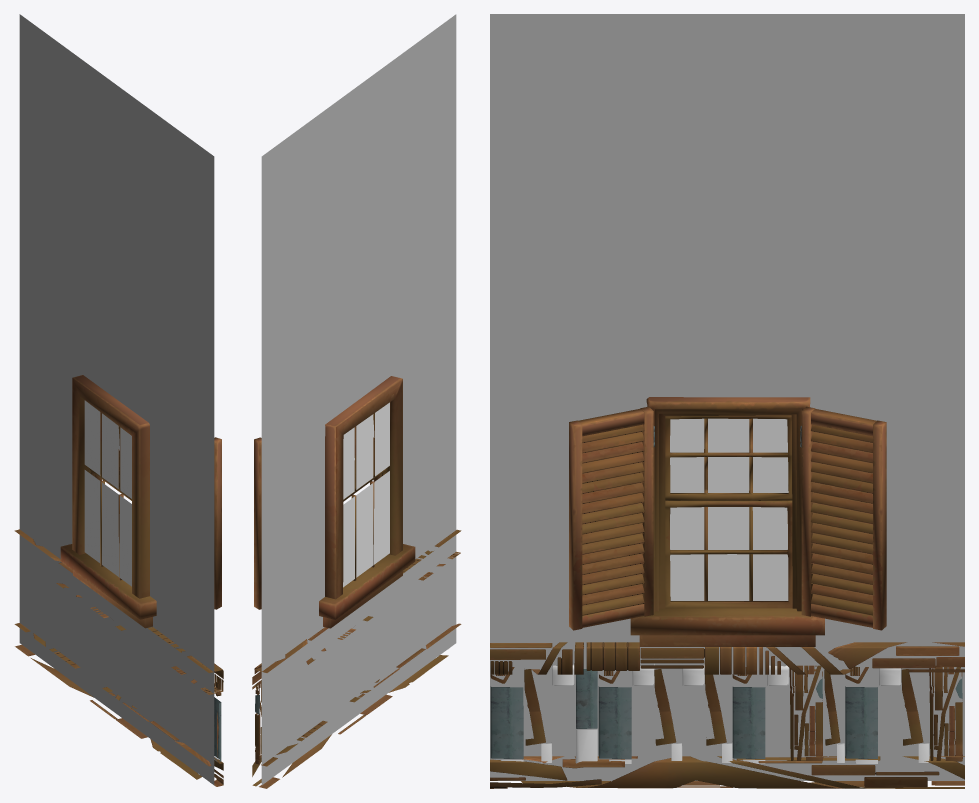
The model's file is Modular_Windows.fbx.
3 renders of one model, left to right at view 1: azimuth 30°, elevation 25°; view 2: azimuth 150°, elevation 25°; view 3: azimuth 270°, elevation 25°, orthographic. The views are drawn at different scales.
Parts seen in each view (by area): view 1: windows_mular, windows.039, windows.004, windows.003, windows.001, windows.051; view 2: windows_mular, windows.039, windows.004, windows.003, windows.002, windows.051; view 3: windows_mular, windows.002, windows.001, windows.039, windows.004, windows.003, windows.051, windows.046.
Part boxes in pixels (x1=…): windows_mular: x1=14, y1=14, x2=223, y2=786; windows.039: x1=60, y1=375, x2=156, y2=628; windows.004: x1=84, y1=470, x2=131, y2=586; windows.003: x1=84, y1=400, x2=131, y2=498; windows.001: x1=214, y1=437, x2=221, y2=609; windows.051: x1=89, y1=468, x2=131, y2=580; windows_mular: x1=252, y1=14, x2=461, y2=788; windows.039: x1=319, y1=376, x2=415, y2=628; windows.004: x1=343, y1=471, x2=389, y2=587; windows.003: x1=343, y1=402, x2=389, y2=499; windows.002: x1=254, y1=437, x2=261, y2=609; windows.051: x1=343, y1=469, x2=385, y2=580; windows_mular: x1=490, y1=14, x2=964, y2=788; windows.002: x1=801, y1=406, x2=886, y2=630; windows.001: x1=569, y1=406, x2=653, y2=630; windows.039: x1=630, y1=397, x2=824, y2=646; windows.004: x1=670, y1=507, x2=788, y2=600; windows.003: x1=670, y1=418, x2=788, y2=492; windows.051: x1=665, y1=500, x2=792, y2=608; windows.046: x1=665, y1=415, x2=792, y2=500.
Bounding box in the file's own units: 81.72 × 847 × 474.
